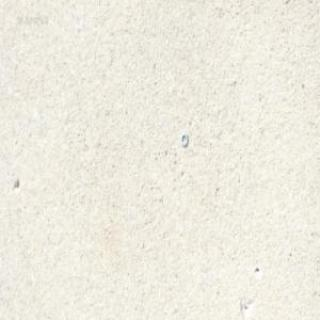Washertrack_idkeyframe: (174, 122, 200, 156)
